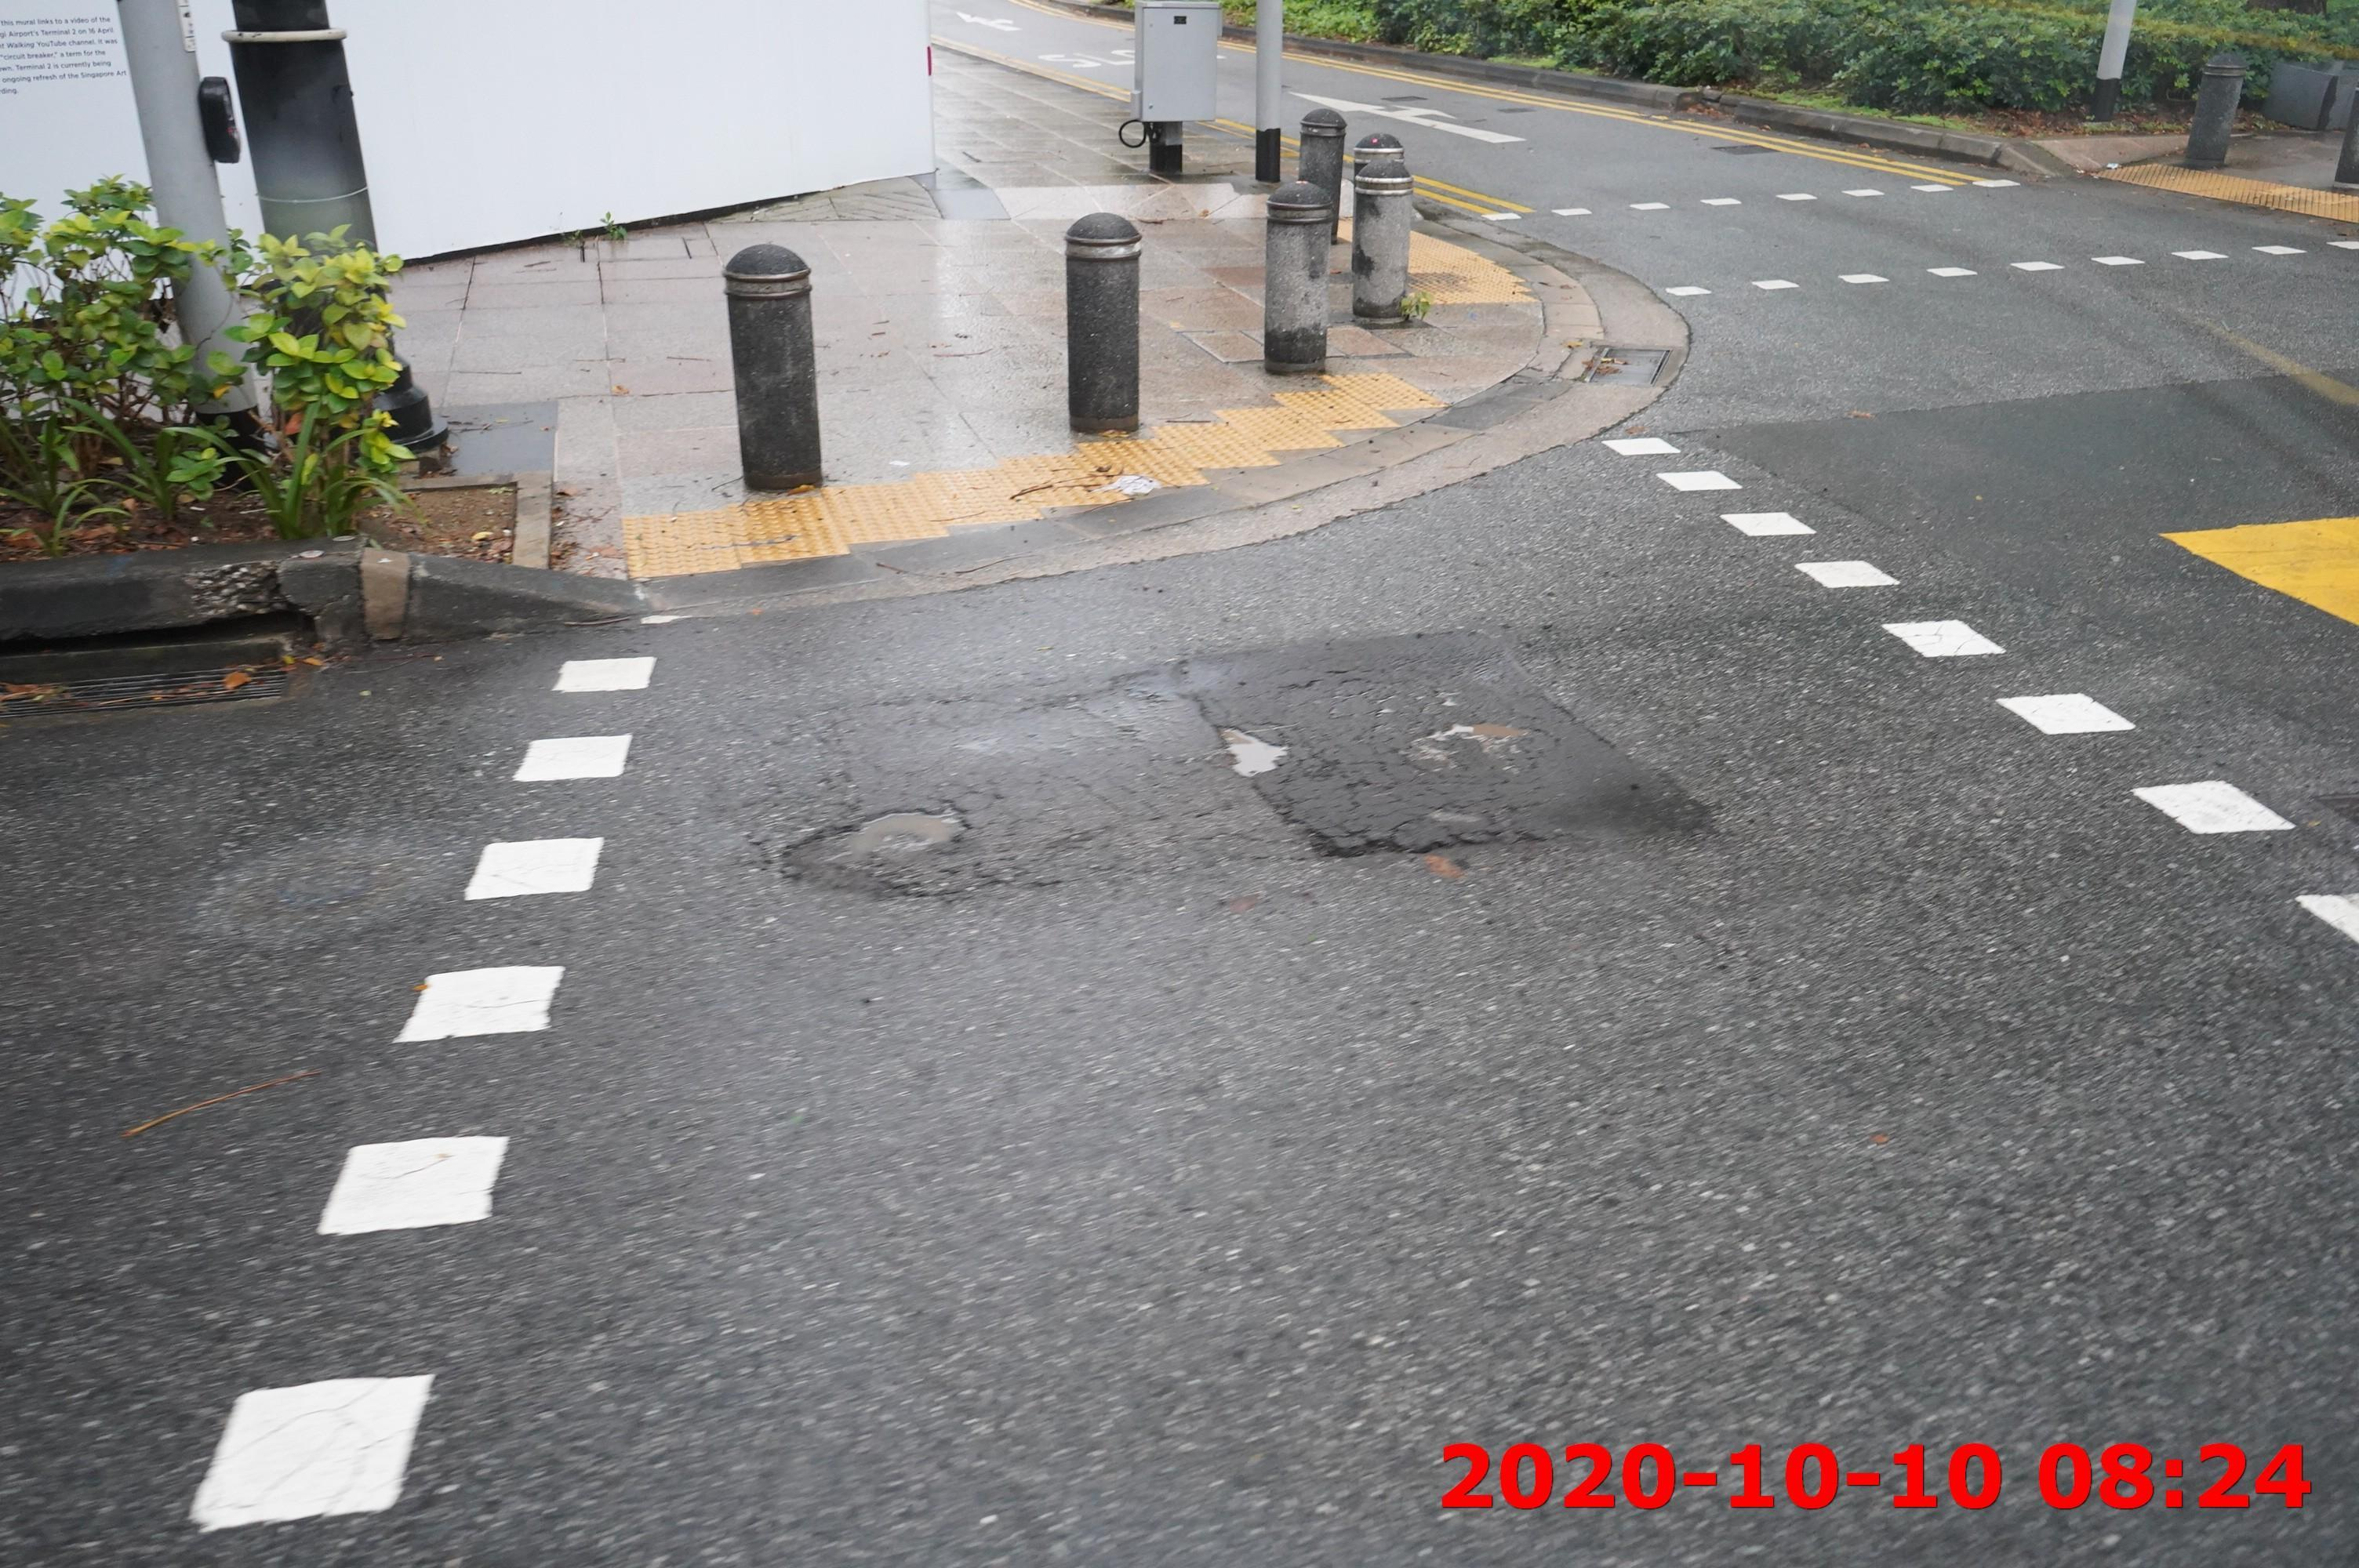pothole with crack: (765, 784, 970, 896)
